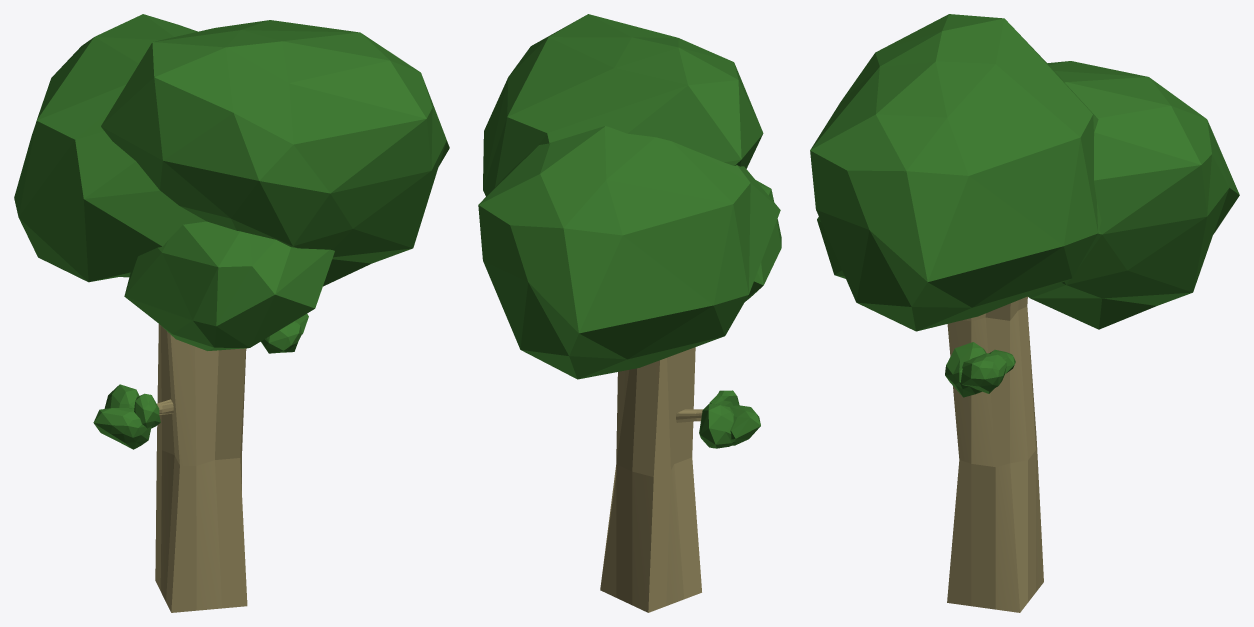
Rendered from Arbol.fbx.
The picture shows the model from 3 angles, left to right: view 1: azimuth 30°, elevation 25°; view 2: azimuth 150°, elevation 25°; view 3: azimuth 270°, elevation 25°; orthographic projection. The views are drawn at different scales.
Visible parts, largest first — view 1: Arbol; view 2: Arbol; view 3: Arbol.
Part boxes in pixels (left/top/right/bottom): Arbol: left=14, top=14, right=449, bottom=612; Arbol: left=478, top=14, right=781, bottom=612; Arbol: left=810, top=14, right=1239, bottom=612.
Bounding box in the file's own units: 1797 × 2715 × 1889.
